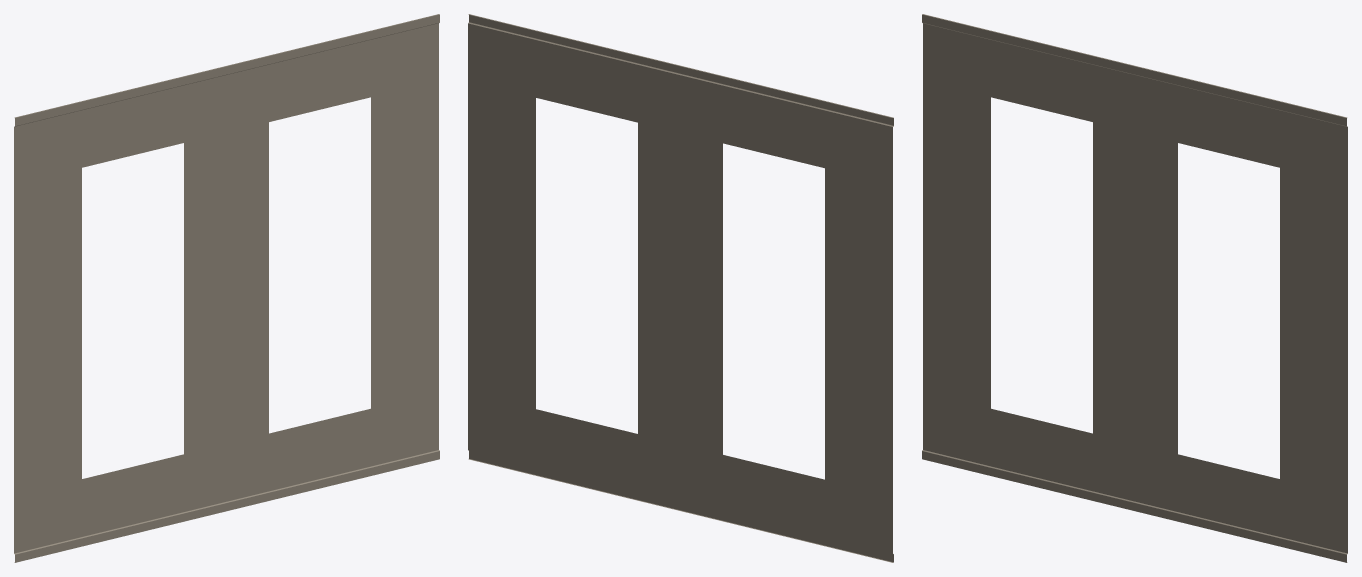
File: Wall_5x5_2Window_UniformSize.fbx
3 views of the same model, side by side, from view 1: azimuth 30°, elevation 25°; view 2: azimuth 150°, elevation 25°; view 3: azimuth 330°, elevation 25° (orthographic).
Parts seen in each view (by area): view 1: Wall_5x5_2Window_UniformSize; view 2: Wall_5x5_2Window_UniformSize; view 3: Wall_5x5_2Window_UniformSize.
Part boxes in pixels (<box>): Wall_5x5_2Window_UniformSize: <box>14,14,439,562</box>; Wall_5x5_2Window_UniformSize: <box>468,14,893,562</box>; Wall_5x5_2Window_UniformSize: <box>922,14,1347,562</box>.
Bounding box in the file's own units: 5 × 5 × 0.015.
